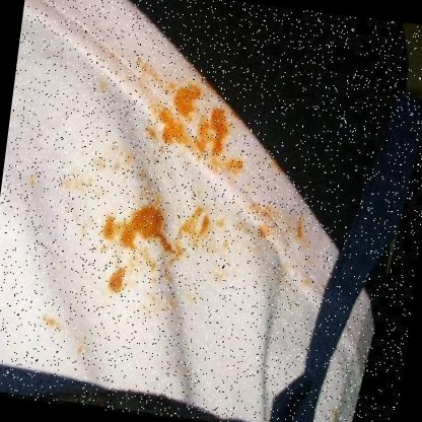kimchi: (91, 183, 218, 305), (130, 100, 237, 171), (229, 204, 316, 252), (126, 74, 207, 107), (63, 146, 120, 181), (269, 257, 315, 292), (208, 253, 239, 298), (122, 55, 170, 79), (39, 309, 78, 337), (229, 153, 248, 178), (97, 73, 115, 99), (25, 171, 42, 189), (326, 409, 343, 422)
